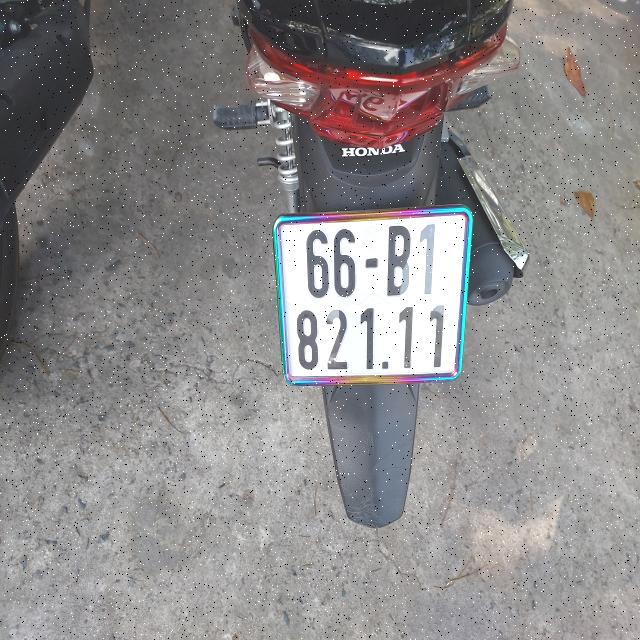1: (419, 220, 439, 298), (430, 306, 448, 372), (359, 306, 377, 370), (399, 306, 415, 370)
2: (324, 308, 351, 374)
6: (331, 227, 362, 298), (304, 229, 332, 303)
8: (298, 308, 322, 372)
B: (386, 225, 414, 302)
